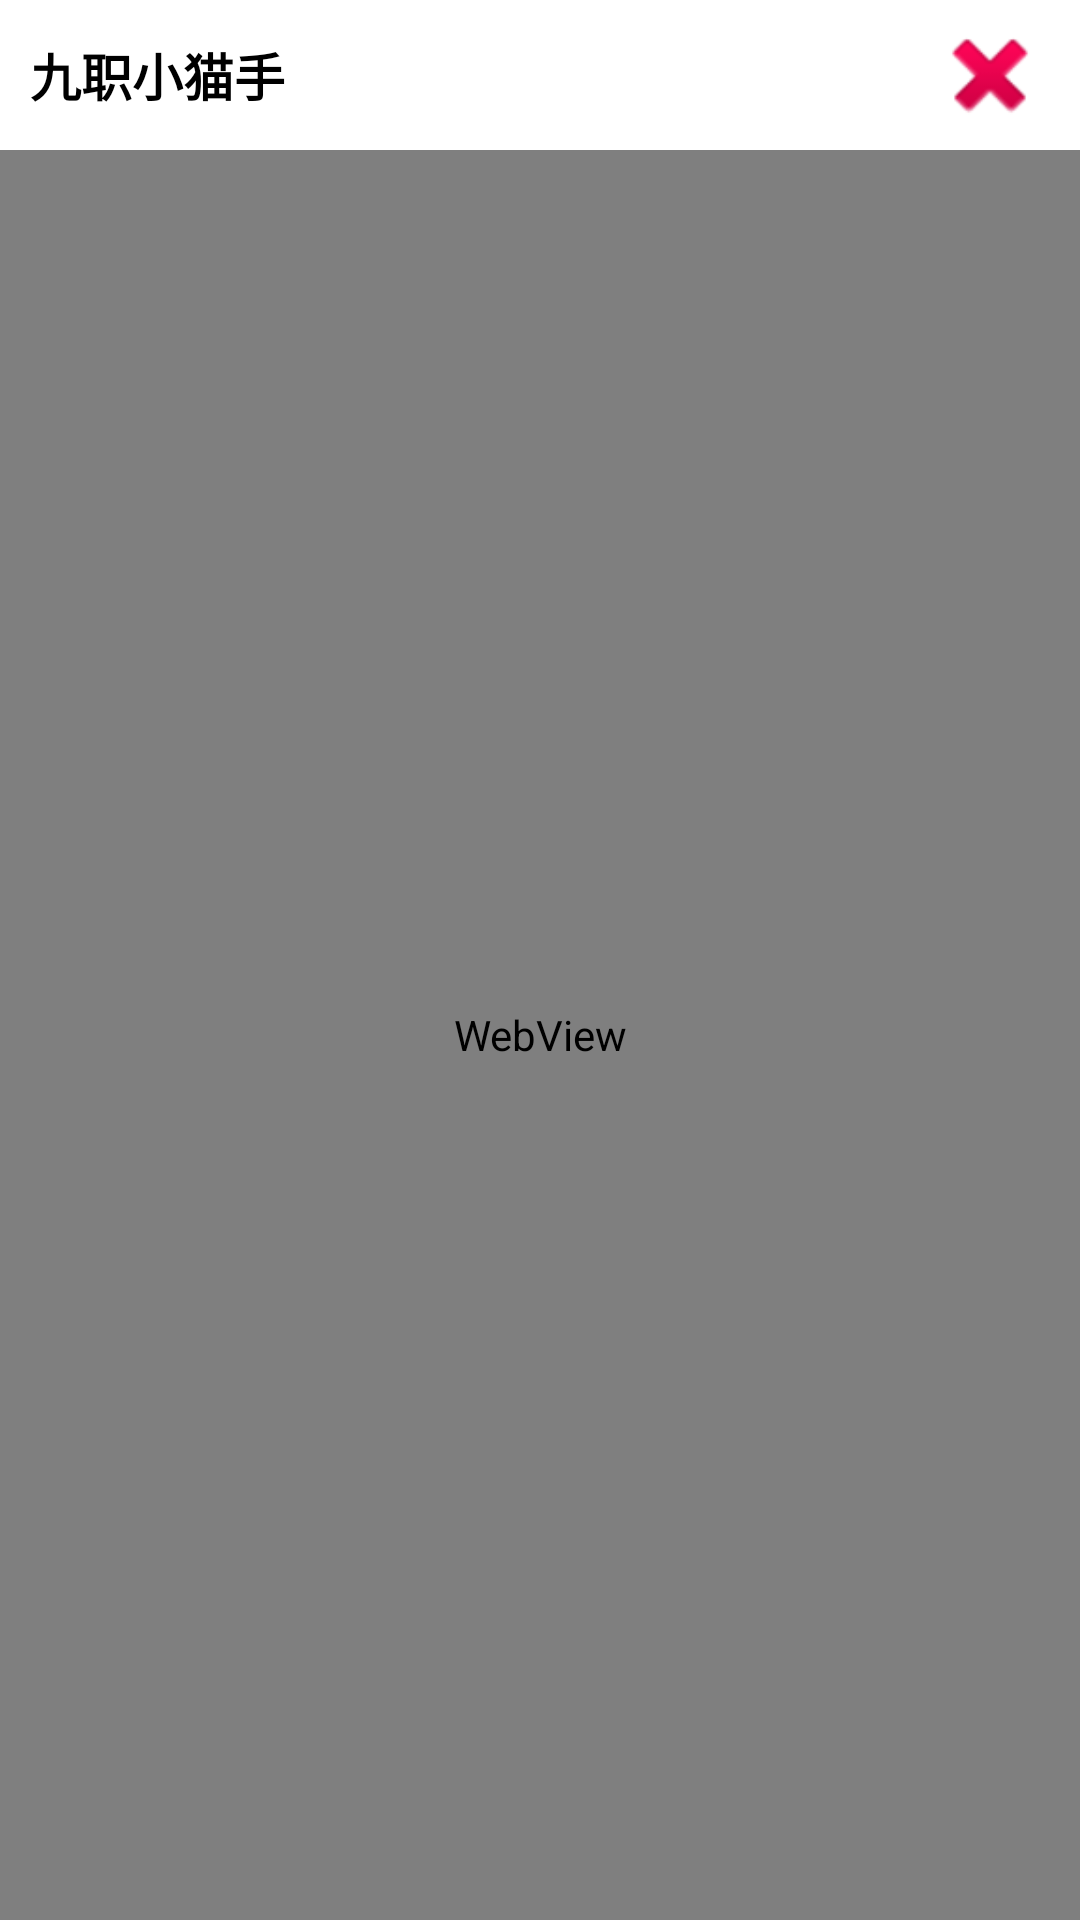

Point at icon controls on the screen. Image size 1080x1920, points as (x,y).
delete: (990,76)
